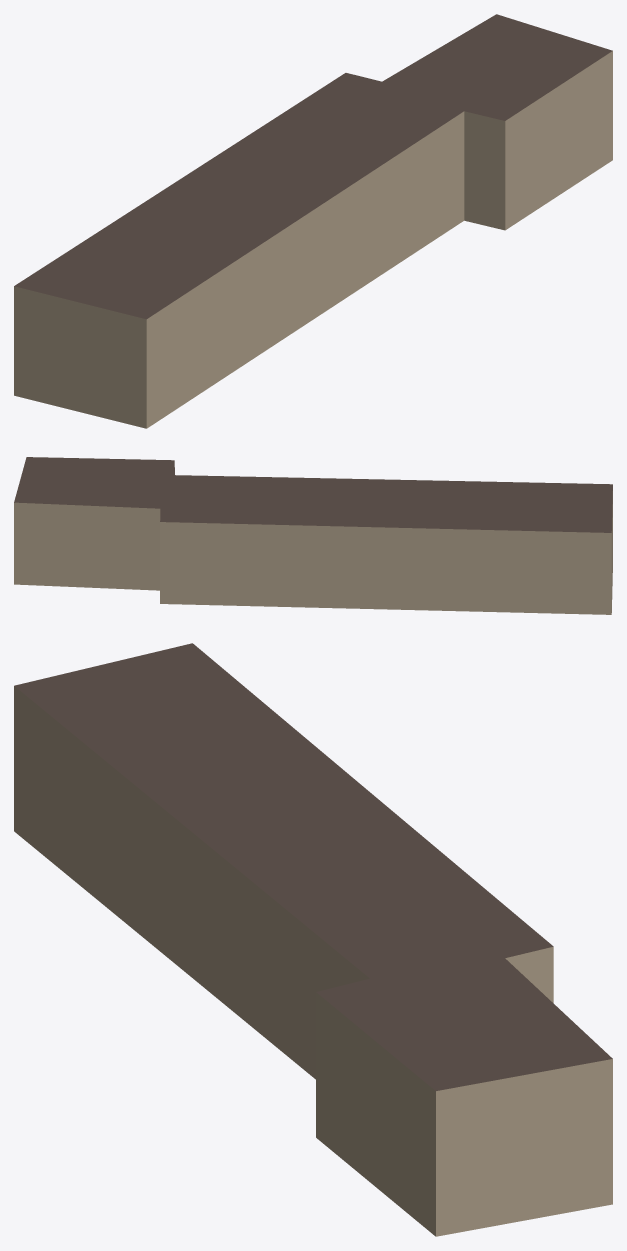
3 renders of one model, top to bottom at view 1: azimuth 30°, elevation 25°; view 2: azimuth 150°, elevation 25°; view 3: azimuth 270°, elevation 25°, orthographic. The views are drawn at different scales.
Visible parts, largest first — view 1: HP-w1516163129; view 2: HP-w1516163129; view 3: HP-w1516163129.
Boxes of the visible parts, x1=… form: HP-w1516163129: x1=14, y1=14, x2=612, y2=428; HP-w1516163129: x1=14, y1=457, x2=612, y2=614; HP-w1516163129: x1=14, y1=643, x2=612, y2=1236.
Bounding box in the file's own units: 59.4 × 9 × 33.56.
